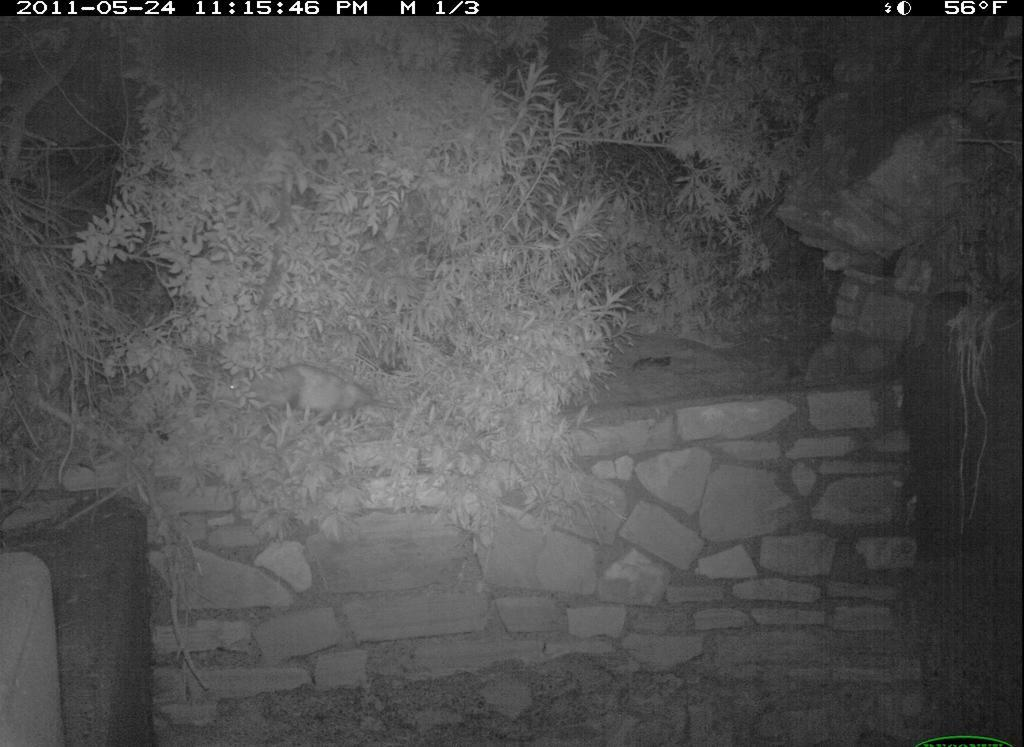opossum: (219, 360, 395, 433)
